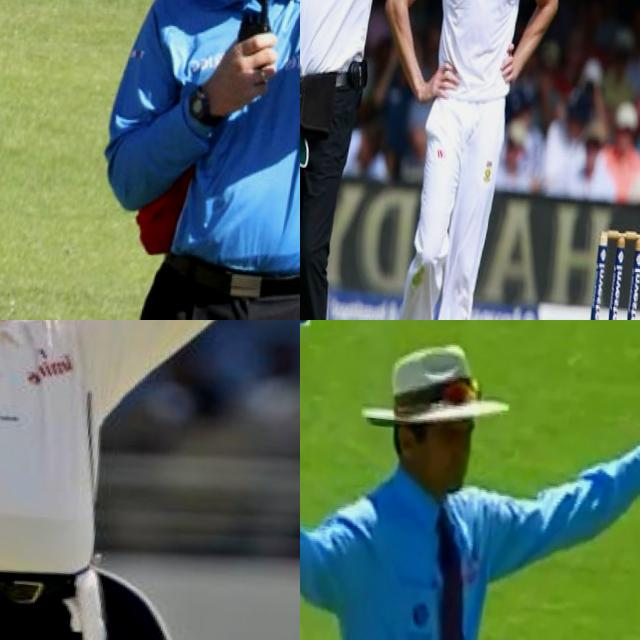No_Ball: (300, 0, 504, 320)
Out: (73, 0, 300, 320)
Six: (0, 320, 300, 640)
Wide: (300, 320, 640, 640)
